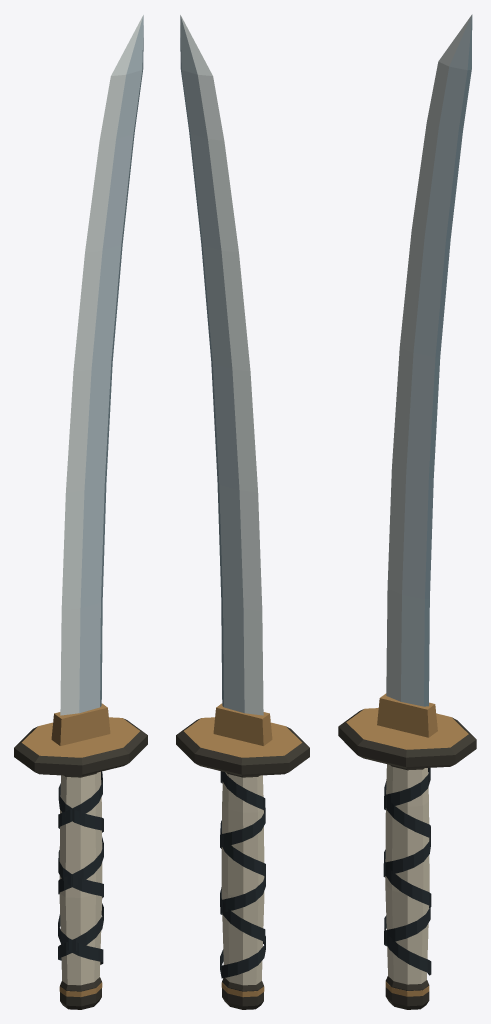
Rendered from katana-low-poly.glb.
3 renders of one model, left to right at view 1: azimuth 30°, elevation 25°; view 2: azimuth 150°, elevation 25°; view 3: azimuth 330°, elevation 25°, orthographic. The views are drawn at different scales.
Visible parts, largest first — view 1: Katana low poly; view 2: Katana low poly; view 3: Katana low poly.
Boxes of the visible parts, bbox=[...] form: Katana low poly: bbox=[14, 15, 147, 1009]; Katana low poly: bbox=[176, 15, 309, 1009]; Katana low poly: bbox=[338, 14, 476, 1009].
Bounding box in the file's own units: 0.8084 × 6.3 × 0.582.
